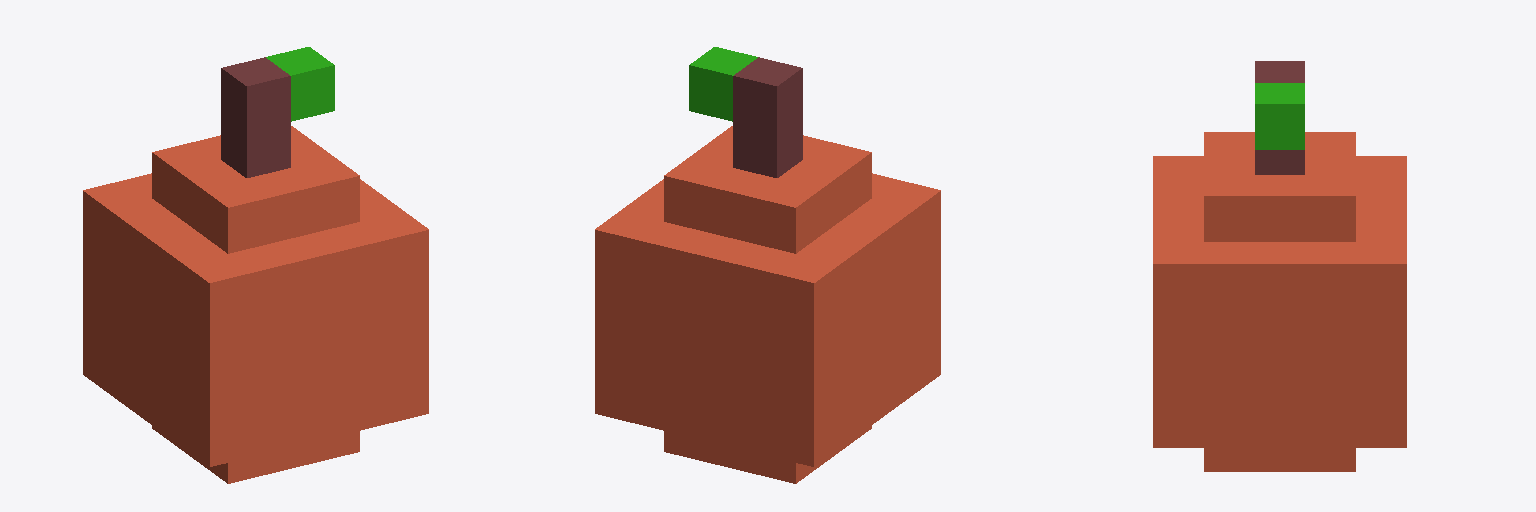
The picture shows the model from 3 angles: view 1: azimuth 30°, elevation 25°; view 2: azimuth 150°, elevation 25°; view 3: azimuth 270°, elevation 25°; orthographic projection.
Visible parts, largest first — view 1: object 1; view 2: object 1; view 3: object 1.
Boxes of the visible parts, box(x1,y1,x2,y2) form: object 1: box(83, 47, 428, 483); object 1: box(595, 47, 940, 483); object 1: box(1153, 61, 1406, 471).
Size of the model in its own units: 0.5 by 0.8 by 0.5.
Materials: 1 (1 with a texture image).